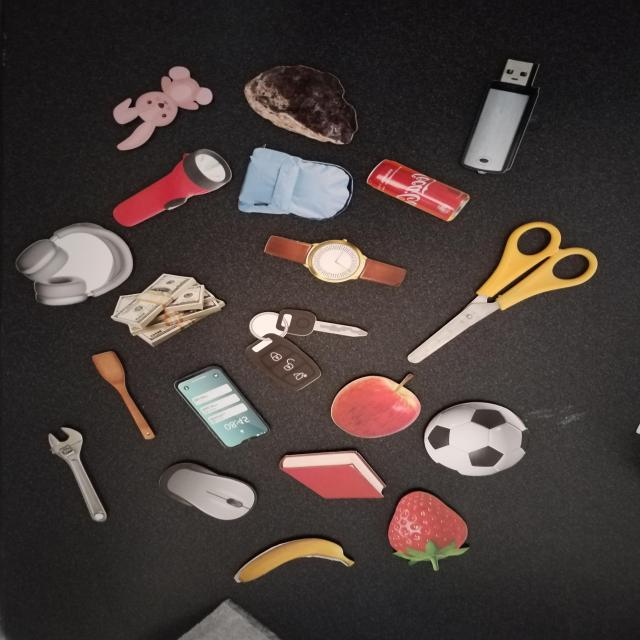Other Objects: (406, 221, 598, 364), (220, 284, 369, 396), (103, 142, 241, 241), (458, 56, 549, 179), (14, 222, 134, 307), (235, 146, 358, 226), (243, 64, 358, 146), (110, 273, 226, 348), (112, 66, 213, 152), (422, 399, 529, 478), (149, 456, 264, 527), (173, 365, 270, 449), (263, 235, 407, 287), (90, 349, 164, 443), (365, 159, 470, 222), (45, 425, 109, 527), (330, 373, 421, 439), (233, 538, 355, 584)
